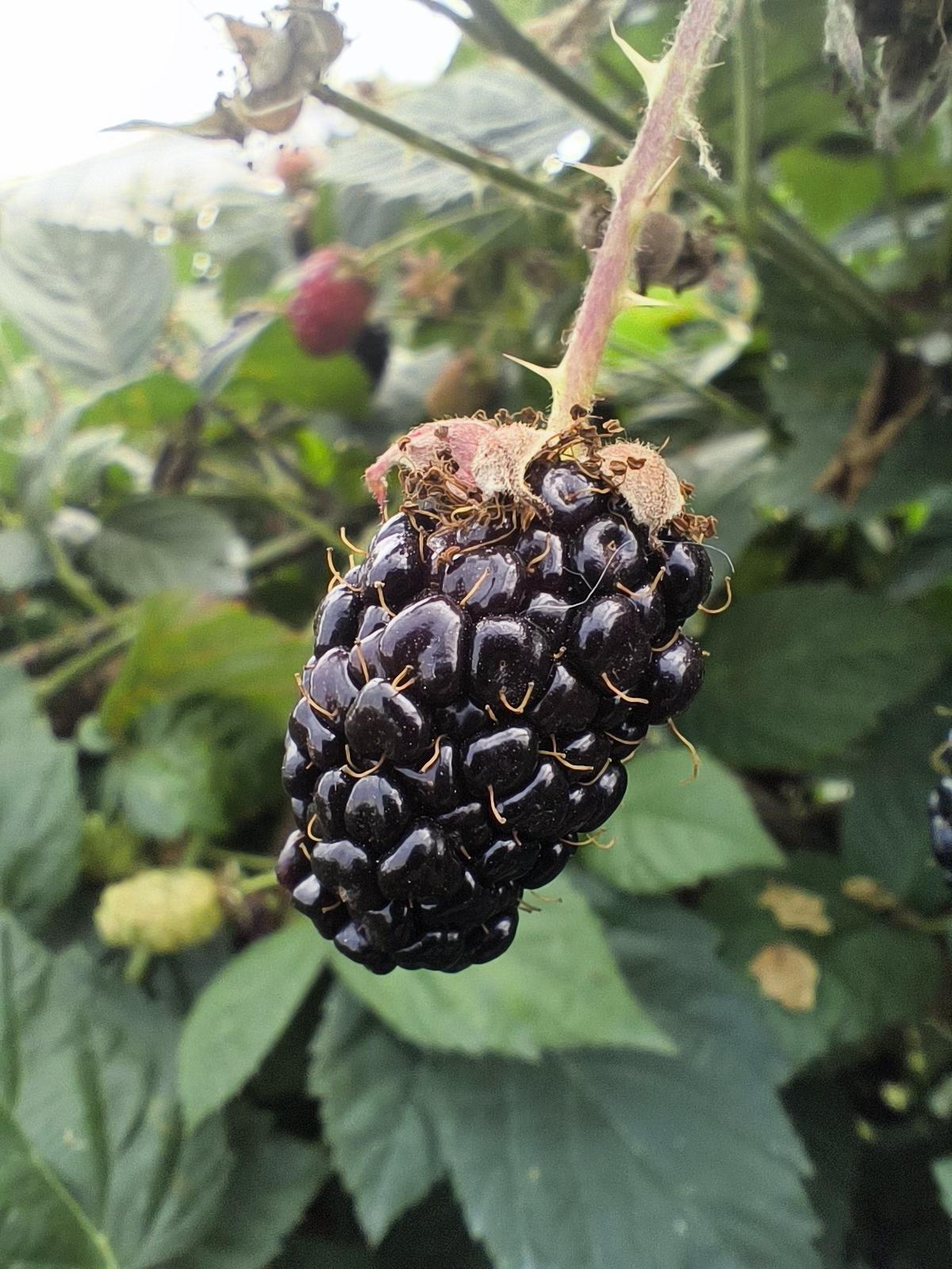maduro: (290, 449, 711, 983)
